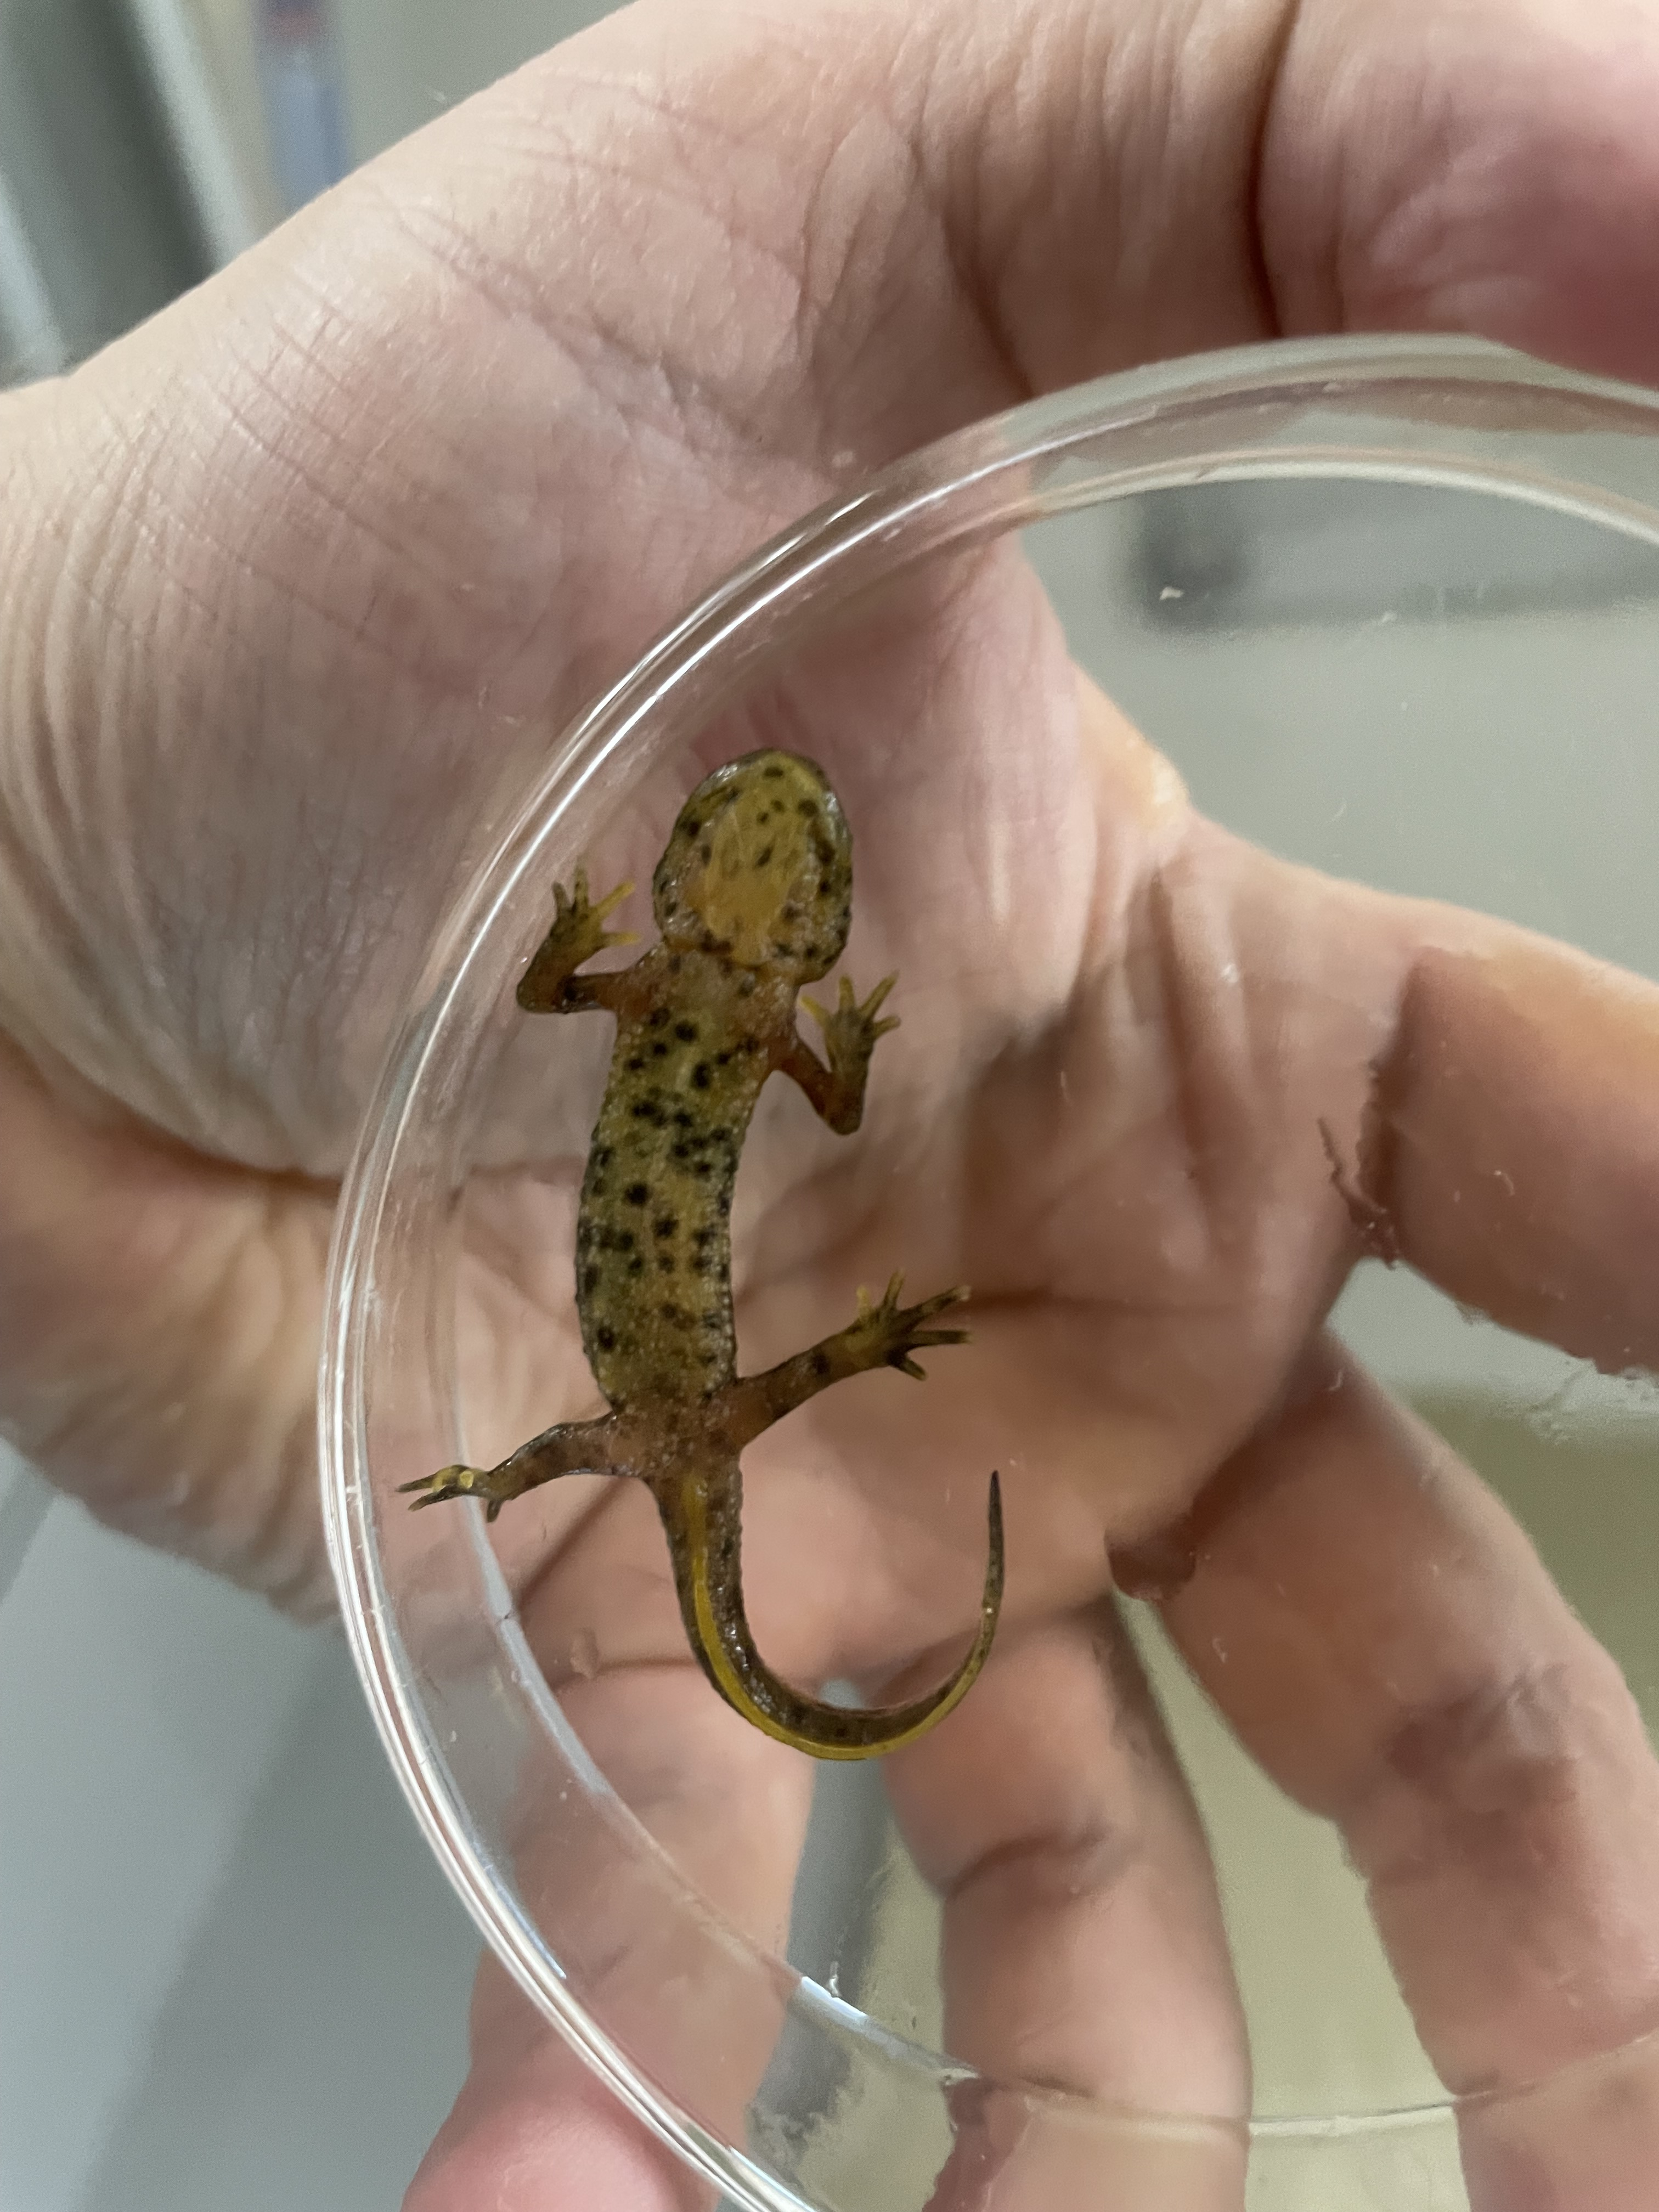newt_ribbed: (579, 1008, 774, 1409)
